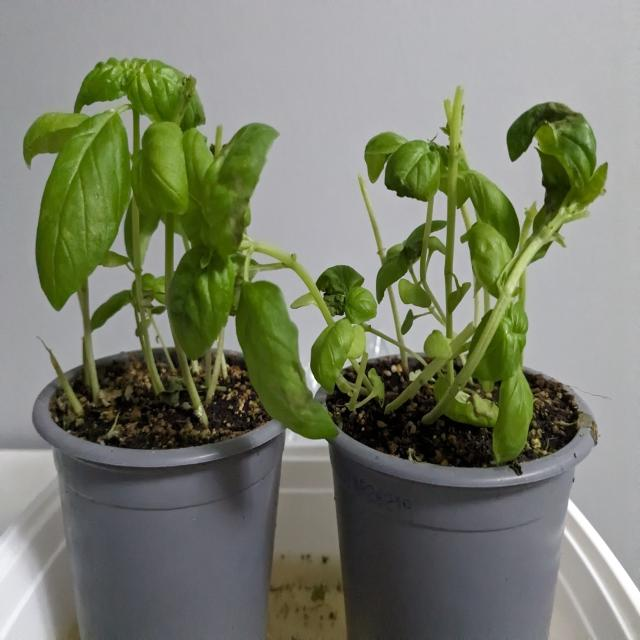dark: (202, 128, 278, 248), (169, 261, 230, 354), (279, 369, 347, 429), (514, 92, 584, 139), (316, 270, 359, 318), (539, 156, 569, 223), (404, 242, 427, 260), (150, 306, 168, 316)
healthy: (38, 111, 132, 308), (460, 169, 524, 251), (141, 126, 197, 217), (136, 59, 208, 125), (240, 278, 292, 363), (493, 375, 533, 465), (472, 312, 531, 372), (385, 140, 441, 201), (76, 52, 134, 107), (310, 319, 349, 394), (366, 133, 403, 183), (89, 291, 131, 330), (374, 259, 406, 302), (410, 219, 448, 239), (141, 274, 167, 302), (448, 281, 470, 314), (402, 312, 415, 334), (387, 245, 403, 254)
yellow: (466, 224, 513, 294), (581, 161, 609, 207), (424, 332, 454, 361), (401, 281, 432, 307), (347, 324, 368, 360)
